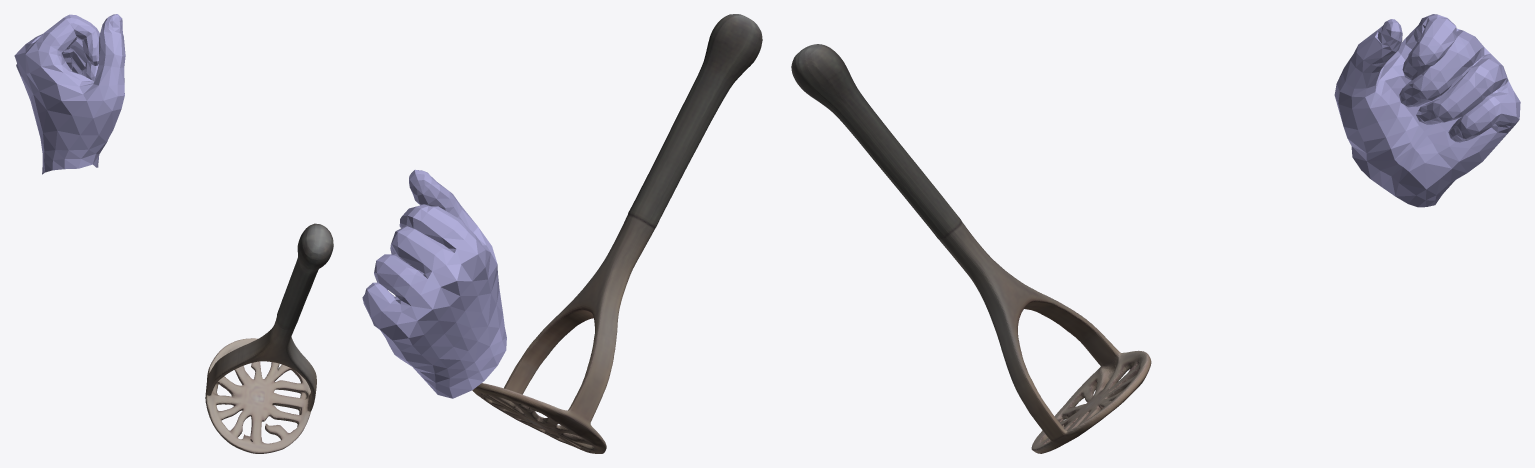
Rendered from frame_0020_source_000020_hand_object.glb.
3 views of the same model, side by side, from view 1: azimuth 30°, elevation 25°; view 2: azimuth 150°, elevation 25°; view 3: azimuth 270°, elevation 25° (orthographic). The views are drawn at different scales.
Visible parts, largest first — view 1: world; view 2: world; view 3: world.
Part boxes in pixels (bbox=[...]): world: bbox=[14, 14, 333, 453]; world: bbox=[362, 14, 762, 453]; world: bbox=[791, 14, 1520, 453].
Bounding box in the file's own units: 0.1088 × 0.2477 × 0.3922.
